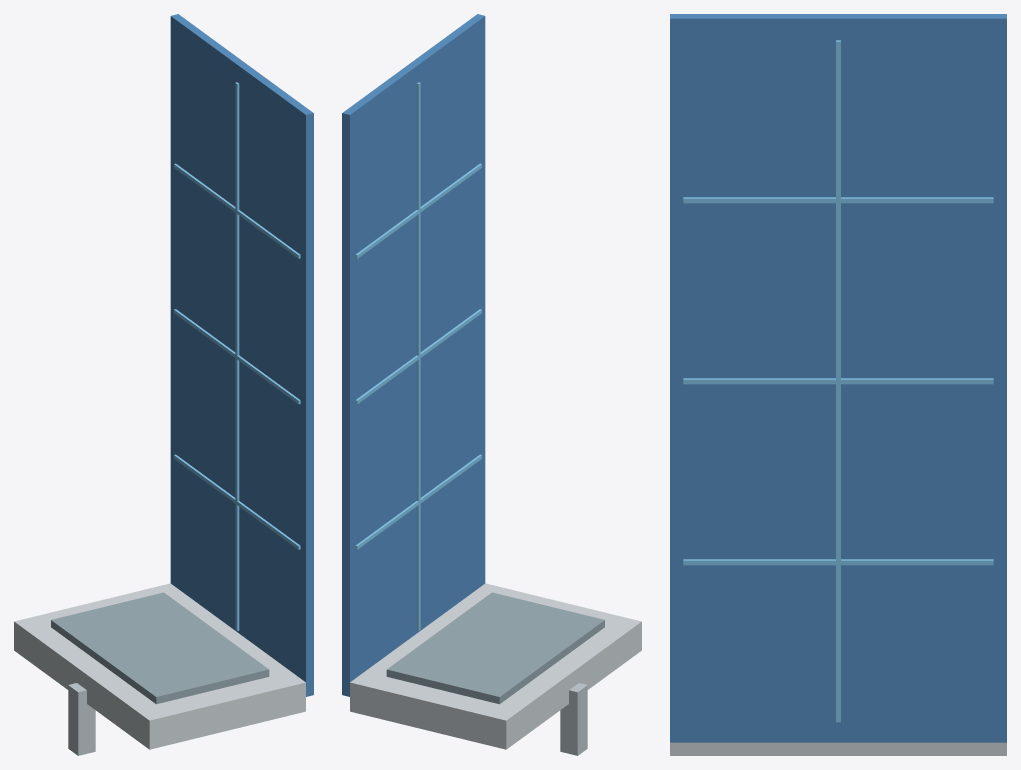
The model's file is starlink-flat-wing.glb.
The picture shows the model from 3 angles, left to right: view 1: azimuth 30°, elevation 25°; view 2: azimuth 150°, elevation 25°; view 3: azimuth 270°, elevation 25°; orthographic projection. The views are drawn at different scales.
Parts seen in each view (by area): view 1: starlink-flat-wing; view 2: starlink-flat-wing; view 3: starlink-flat-wing.
Boxes of the visible parts, x1=… form: starlink-flat-wing: x1=14, y1=14, x2=313, y2=755; starlink-flat-wing: x1=342, y1=14, x2=641, y2=755; starlink-flat-wing: x1=670, y1=14, x2=1006, y2=755.
Size of the model in its own units: 1.01 by 3.56 by 1.35.
